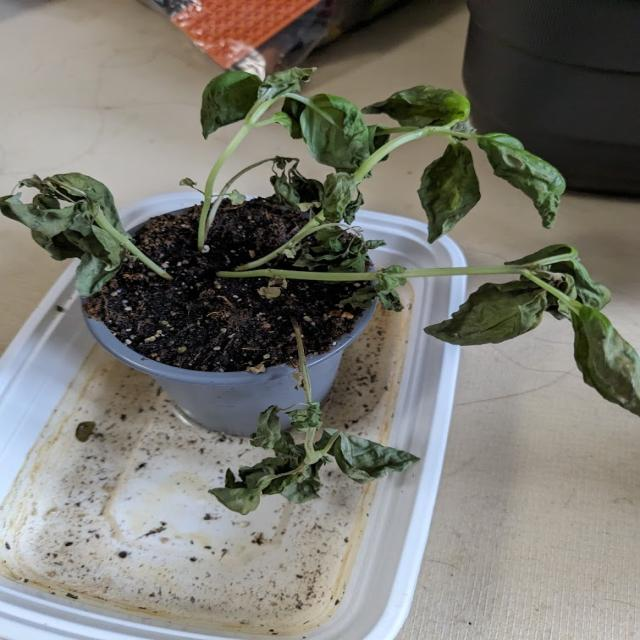dark: (449, 238, 640, 419), (217, 403, 423, 512), (0, 170, 136, 296), (422, 145, 484, 237), (296, 100, 374, 168), (373, 87, 478, 131), (297, 229, 398, 271), (497, 166, 577, 217), (201, 74, 256, 136), (324, 181, 368, 223), (352, 284, 412, 314), (265, 64, 322, 90), (281, 172, 313, 207)
